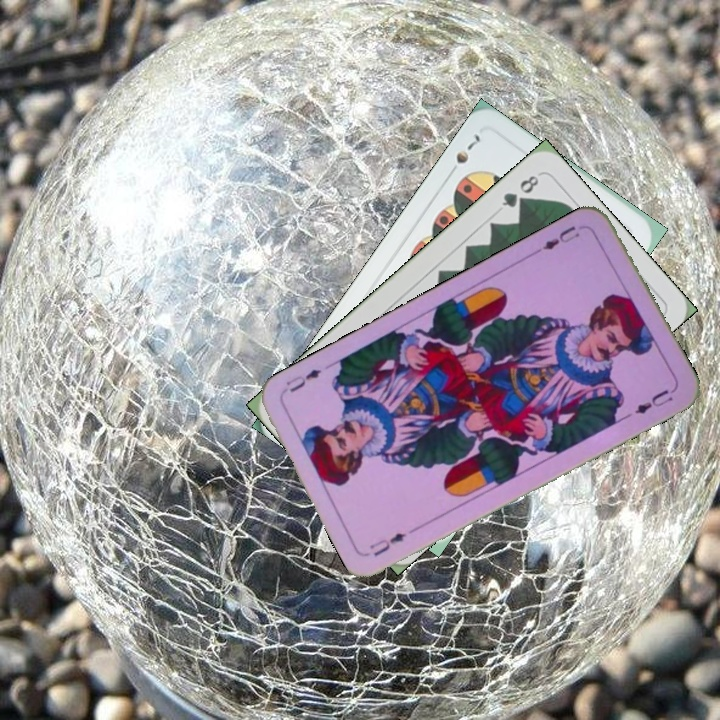EU: (533, 221, 583, 256), (366, 528, 409, 560)
G8: (497, 171, 542, 210)
S7: (444, 129, 483, 179)
